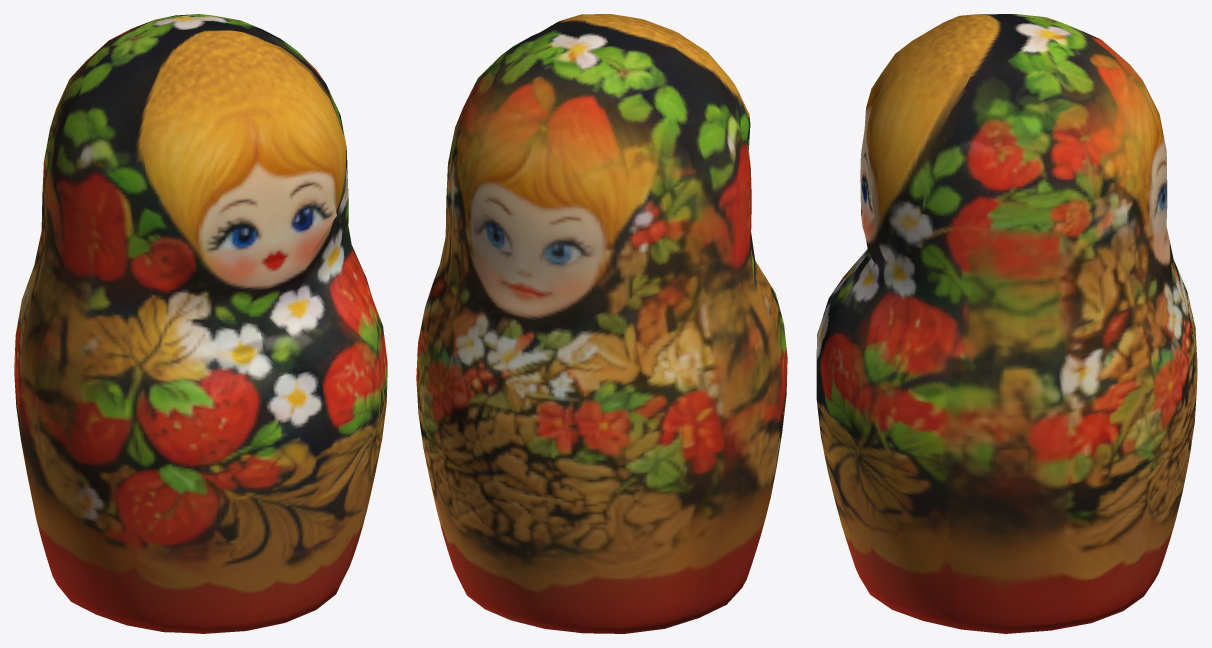
File: MatroSicaThird.fbx
The picture shows the model from 3 angles, left to right: view 1: azimuth 30°, elevation 25°; view 2: azimuth 150°, elevation 25°; view 3: azimuth 270°, elevation 25°; orthographic projection.
Visible parts, largest first — view 1: ThirdOne; view 2: ThirdOne; view 3: ThirdOne.
Boxes of the visible parts, x1,y1,x2,y2 form: ThirdOne: [14, 14, 387, 633]; ThirdOne: [416, 14, 787, 633]; ThirdOne: [816, 14, 1197, 633].
Size of the model in its own units: 16.84 by 27.79 by 17.38.
Materials: 1 (1 with a texture image).
